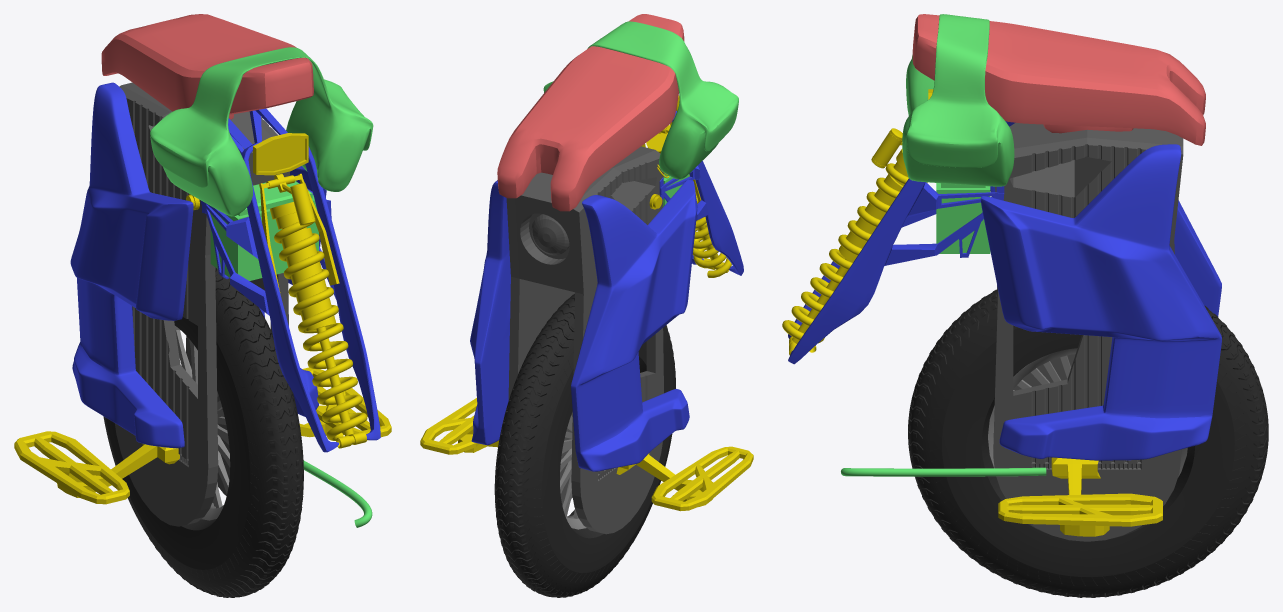
The model's file is monowheel.fbx.
3 views of the same model, side by side, from view 1: azimuth 30°, elevation 25°; view 2: azimuth 150°, elevation 25°; view 3: azimuth 270°, elevation 25° (orthographic). The views are drawn at different scales.
Visible parts, largest first — view 1: Cube.004, Plane.003, simply_coll.002, Cube.020, simply_coll, simply_coll.001, Cube.005, Fluent_Wire.004, Cylinder.009, Cube.008, Cube.006, Cylinder.013 (+5 smaller); view 2: Cube.004, Plane.003, simply_coll.002, simply_coll, Cube.020, Cube.002, Cube.005, simply_coll.001, Cube.023, Fluent_Wire.004, Cylinder.013; view 3: Cube.002, Plane.003, simply_coll.002, simply_coll, Cube.020, simply_coll.001, Cube.023, Fluent_Wire.004, Cube.004, Cube.008, Fluent_Wire.003, Cylinder.009 (+2 smaller).
Boxes of the visible parts, x1,y1,x2,y2 form: Cube.004: (70, 82, 193, 448); Plane.003: (103, 267, 303, 597); simply_coll.002: (114, 82, 289, 526); Cube.020: (150, 47, 373, 216); simply_coll: (101, 14, 313, 119); simply_coll.001: (201, 108, 380, 452); Cube.005: (14, 431, 179, 504); Fluent_Wire.004: (274, 221, 367, 440); Cylinder.009: (270, 202, 354, 435); Cube.008: (210, 181, 318, 280); Cube.006: (253, 133, 308, 175); Cylinder.013: (175, 326, 230, 520); Cube.004: (571, 179, 697, 471); Plane.003: (494, 294, 675, 597); simply_coll.002: (506, 146, 663, 534); simply_coll: (497, 14, 684, 211); Cube.020: (543, 21, 738, 179); Cube.002: (470, 180, 510, 445); Cube.005: (616, 446, 753, 511); simply_coll.001: (659, 111, 743, 275); Cube.023: (420, 398, 498, 454); Fluent_Wire.004: (647, 147, 731, 277); Cylinder.013: (560, 415, 586, 529); Cube.002: (980, 144, 1221, 460); Plane.003: (908, 289, 1268, 597); simply_coll.002: (993, 122, 1183, 541); simply_coll: (912, 14, 1205, 145); Cube.020: (902, 14, 1014, 186); simply_coll.001: (788, 121, 1015, 364); Cube.023: (998, 457, 1162, 536); Fluent_Wire.004: (782, 163, 927, 352); Cube.004: (990, 186, 1221, 316); Cube.008: (936, 183, 990, 253); Fluent_Wire.003: (841, 467, 1046, 476); Cylinder.009: (792, 149, 908, 343).
Size of the model in its own units: 445 by 775 by 598.
